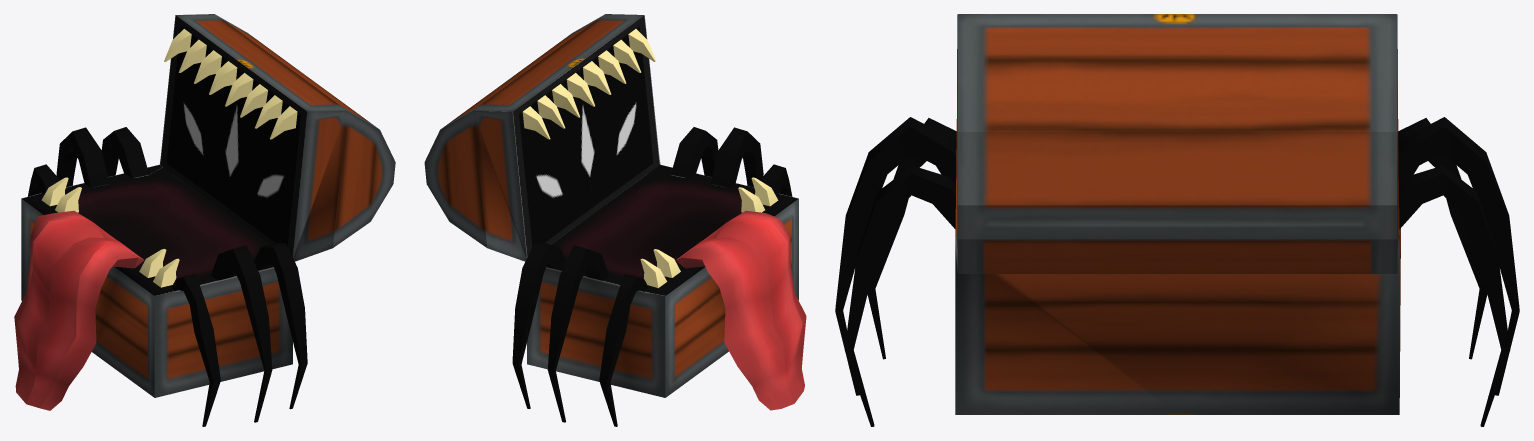
File: cofrearana_000069.obj
3 renders of one model, left to right at view 1: azimuth 30°, elevation 25°; view 2: azimuth 150°, elevation 25°; view 3: azimuth 270°, elevation 25°, orthographic. The views are drawn at different scales.
Parts seen in each view (by area): view 1: cofreArana:Mesh; view 2: cofreArana:Mesh; view 3: cofreArana:Mesh.
Part boxes in pixels (x1,y1,x2,y2): cofreArana:Mesh: (14, 14, 395, 426); cofreArana:Mesh: (424, 14, 806, 426); cofreArana:Mesh: (835, 14, 1519, 426).
Size of the model in its own units: 8.32 by 7.57 by 9.76.
